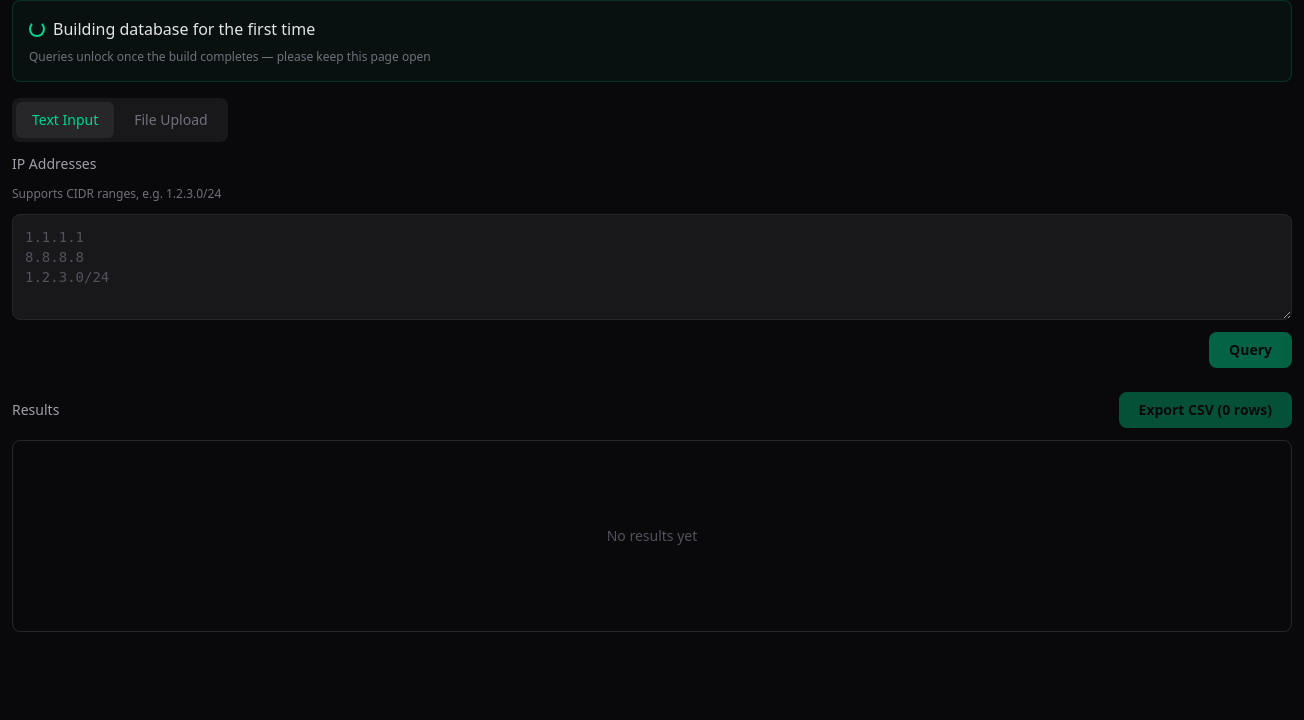
Test case: LookupView warmup integration › disables IP input, file upload and query button while warming
Expected: the text box labelled "IP Addresses" is disabled, [12,214,1292,320]
Expected: the button "Query" is disabled, [1209,332,1292,368]
// file tab: 文件选择置灰
Click the button "File Upload".
click(171, 120)  # box [118,102,224,138]
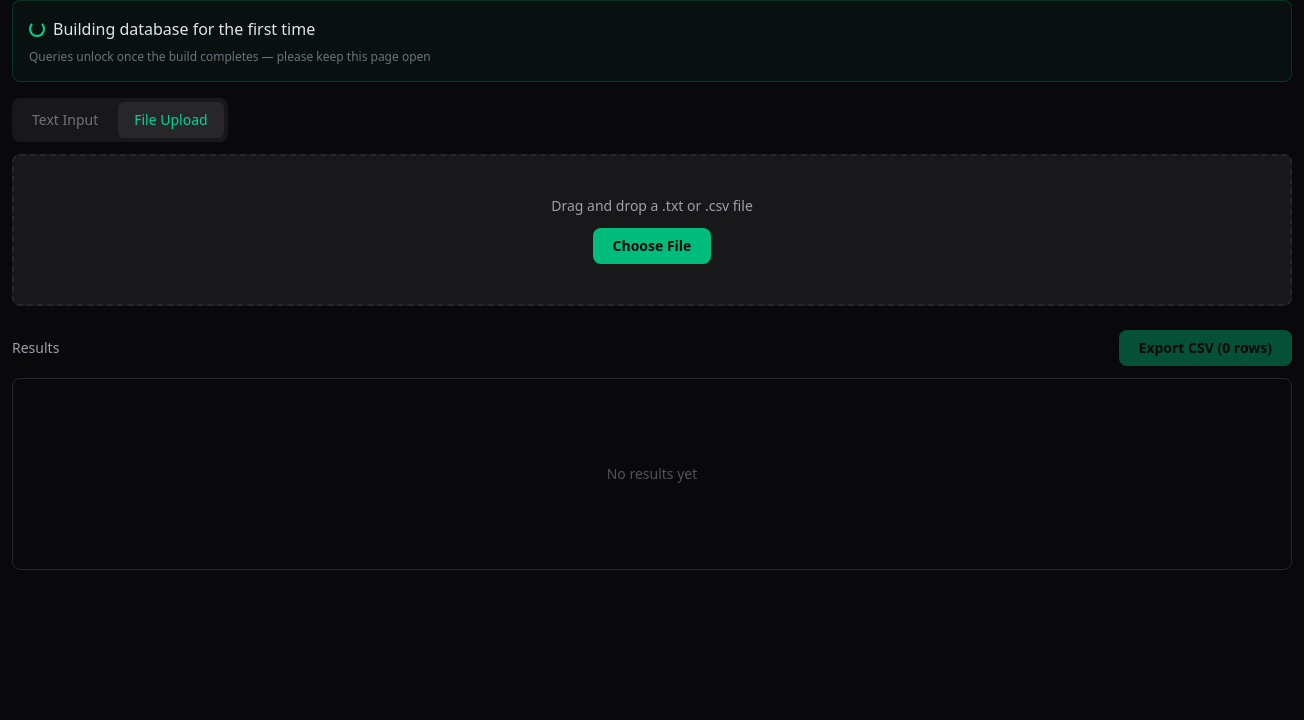
Expected: the file field labelled "Choose File" is disabled, [593,228,711,264]
